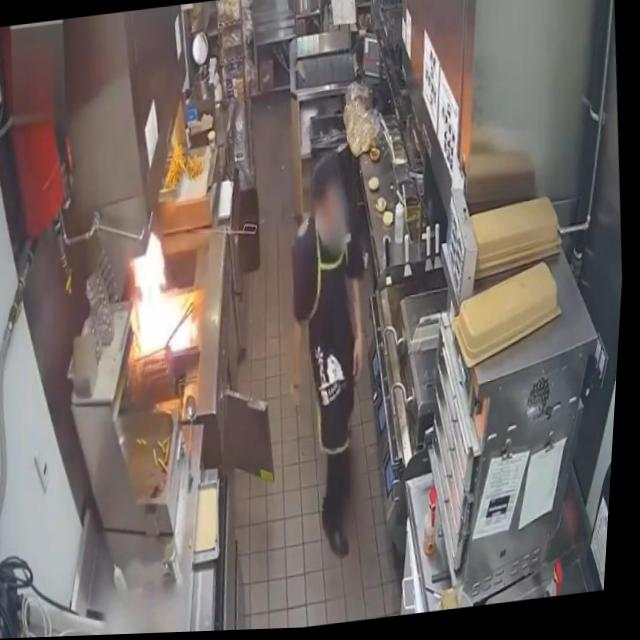fire: (120, 220, 198, 365)
